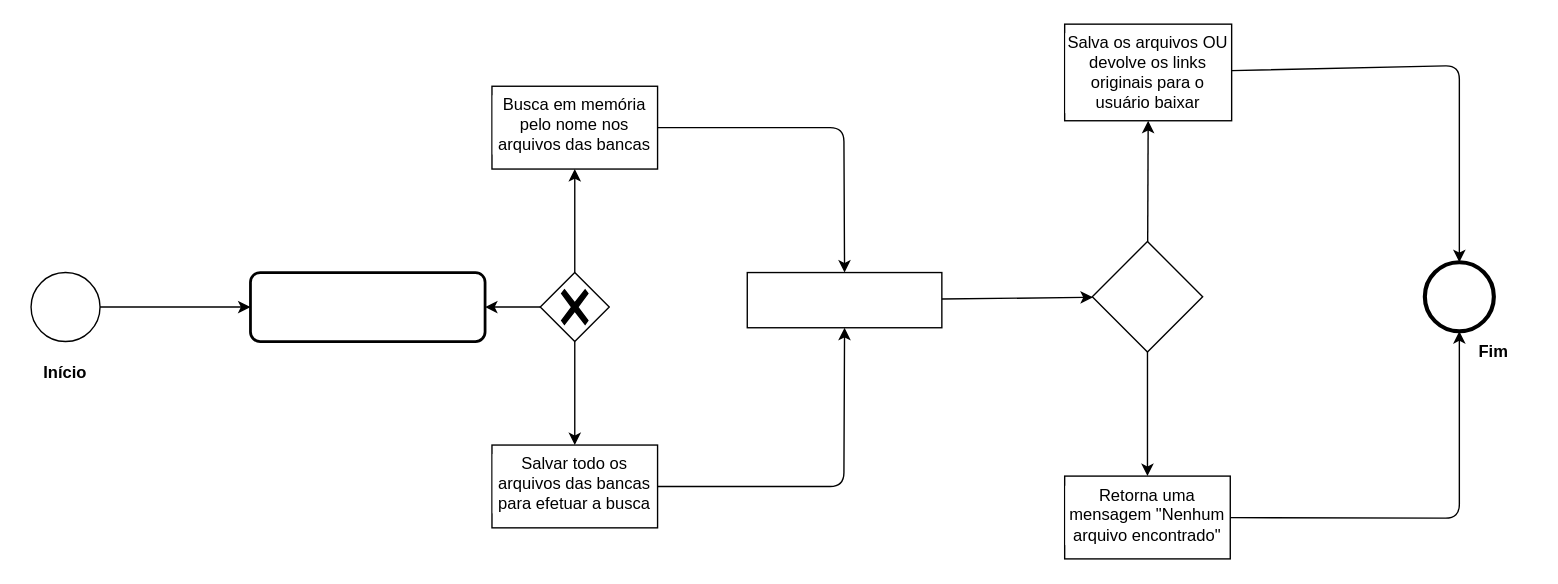
This 1558x584 diagram has some shape labels left out. The centre of each missing label's shape, as x and y in pixels:
Nome foi achado em um ou mais arquivos?: (x=844, y=299)
Usuário faz a busca pelo nome: (x=367, y=306)
